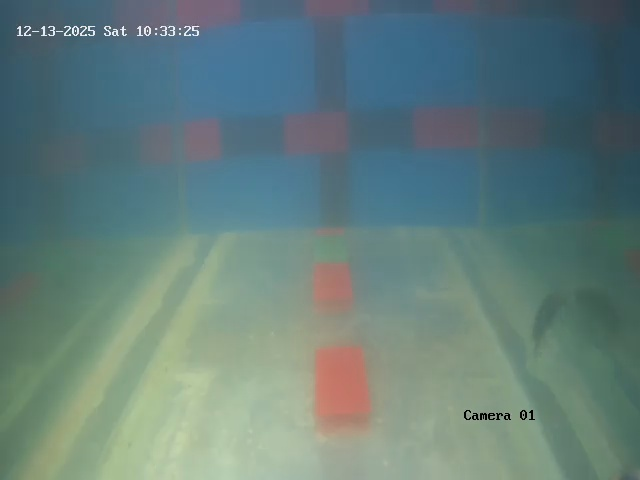fish: (526, 282, 565, 343)
